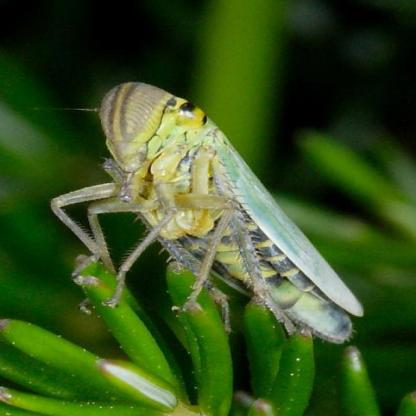Green-Leafhopper: (46, 81, 370, 350)
